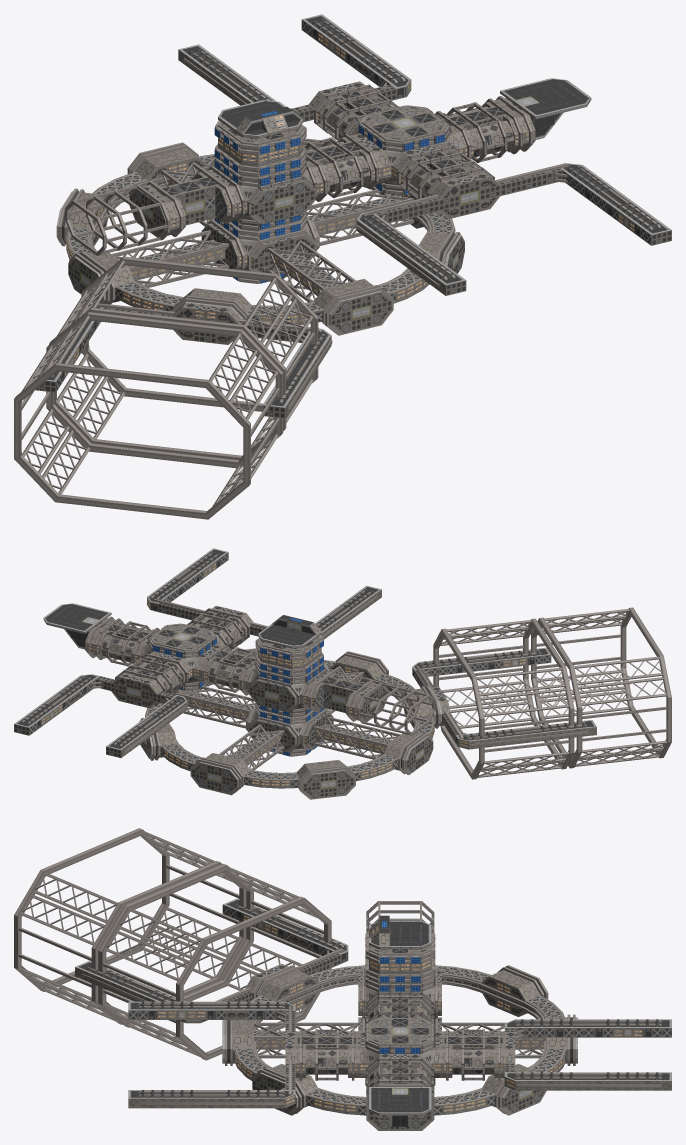
Rendered from Station III.fbx.
The picture shows the model from 3 angles, top to bottom: view 1: azimuth 30°, elevation 25°; view 2: azimuth 150°, elevation 25°; view 3: azimuth 270°, elevation 25°; orthographic projection. The views are drawn at different scales.
Parts seen in each view (by area): view 1: Cube_11, Cube_9, Cube_5, Cube_8, Cube_10, Cube_1, Cube_2, Cube_6, Cube_7, Cube, Cube_3, Cube_4; view 2: Cube_11, Cube_9, Cube_5, Cube_10, Cube_8, Cube_1, Cube_2, Cube_6, Cube, Cube_7, Cube_3, Cube_4; view 3: Cube_11, Cube_9, Cube_5, Cube_8, Cube_10, Cube_2, Cube_6, Cube_1, Cube_3, Cube.
Boxes of the visible parts, left/top/right/bottom form: Cube_11: left=14, top=256, right=332, bottom=519; Cube_9: left=56, top=138, right=464, bottom=335; Cube_5: left=304, top=84, right=525, bottom=215; Cube_8: left=357, top=163, right=671, bottom=295; Cube_10: left=178, top=14, right=411, bottom=122; Cube_1: left=206, top=157, right=319, bottom=230; Cube_2: left=214, top=120, right=306, bottom=176; Cube_6: left=495, top=78, right=591, bottom=151; Cube_7: left=146, top=168, right=237, bottom=236; Cube: left=65, top=184, right=170, bottom=255; Cube_3: left=218, top=100, right=303, bottom=139; Cube_4: left=130, top=185, right=175, bottom=237; Cube_11: left=412, top=607, right=671, bottom=779; Cube_9: left=139, top=648, right=441, bottom=799; Cube_5: left=92, top=608, right=256, bottom=705; Cube_10: left=14, top=673, right=187, bottom=757; Cube_8: left=147, top=548, right=381, bottom=639; Cube_1: left=246, top=662, right=330, bottom=716; Cube_2: left=255, top=635, right=323, bottom=676; Cube_6: left=43, top=603, right=114, bottom=658; Cube: left=357, top=682, right=435, bottom=735; Cube_7: left=307, top=671, right=374, bottom=721; Cube_3: left=258, top=615, right=321, bottom=649; Cube_4: left=353, top=683, right=387, bottom=721; Cube_11: left=14, top=828, right=348, bottom=1060; Cube_9: left=222, top=965, right=577, bottom=1130; Cube_5: left=295, top=996, right=504, bottom=1094; Cube_8: left=128, top=1001, right=295, bottom=1108; Cube_10: left=504, top=1019, right=671, bottom=1090; Cube_2: left=365, top=932, right=435, bottom=982; Cube_6: left=366, top=1084, right=434, bottom=1126; Cube_1: left=358, top=967, right=441, bottom=1023; Cube_3: left=369, top=915, right=431, bottom=949; Cube: left=366, top=901, right=434, bottom=932.
Bounding box in the file's own units: 67943 × 18625 × 62943.
Materials: 1 (1 with a texture image).
